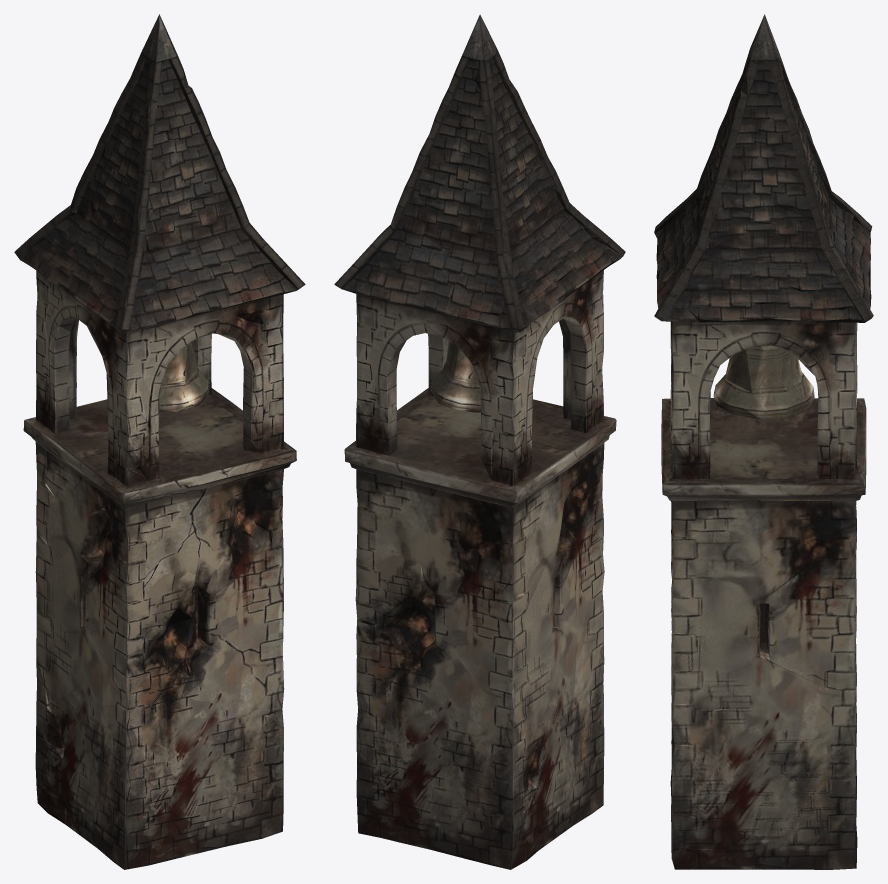
File: prop-bell-tower.glb
3 renders of one model, left to right at view 1: azimuth 30°, elevation 25°; view 2: azimuth 150°, elevation 25°; view 3: azimuth 270°, elevation 25°, orthographic.
Bounding box in the file's own units: 0.463 × 1.9 × 0.4631.
1 material, 1 textured.
